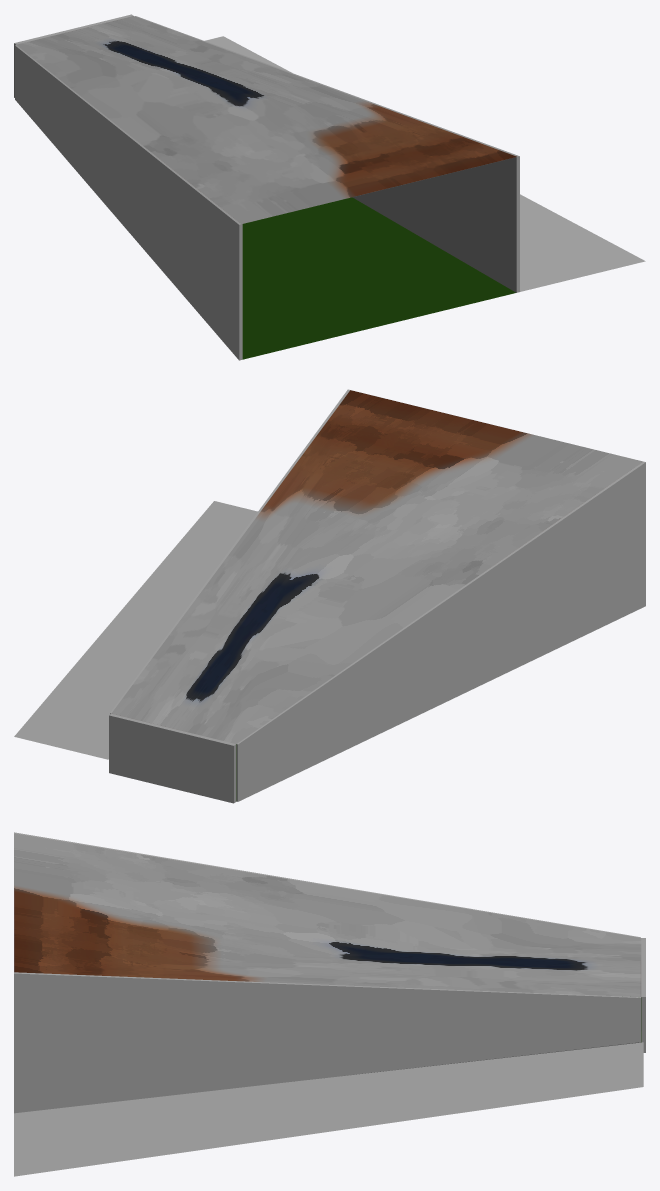
The model's file is classroom_3.fbx.
3 views of the same model, one above another, from view 1: azimuth 30°, elevation 25°; view 2: azimuth 150°, elevation 25°; view 3: azimuth 270°, elevation 25° (orthographic). The views are drawn at different scales.
Visible parts, largest first — view 1: floor_1, floor_, wall, wall1, rouka; view 2: floor_1, wall, rouka, wall2, wall1; view 3: floor_1, wall1, rouka, wall, wall2.
Boxes of the visible parts, <box> form: floor_1: <box>16,16,516,224</box>; floor_: <box>242,197,515,359</box>; wall: <box>15,45,242,360</box>; wall1: <box>135,16,519,292</box>; rouka: <box>204,36,645,291</box>; floor_1: <box>111,390,642,743</box>; wall: <box>236,461,645,801</box>; rouka: <box>14,501,257,759</box>; wall2: <box>109,713,236,803</box>; wall1: <box>110,389,349,714</box>; floor_1: <box>14,833,641,997</box>; wall1: <box>14,972,640,1113</box>; rouka: <box>14,1042,643,1176</box>; wall: <box>14,832,640,937</box>; wall2: <box>641,938,645,1052</box>.
Bounding box in the file's own units: 1149 × 366 × 1501.
